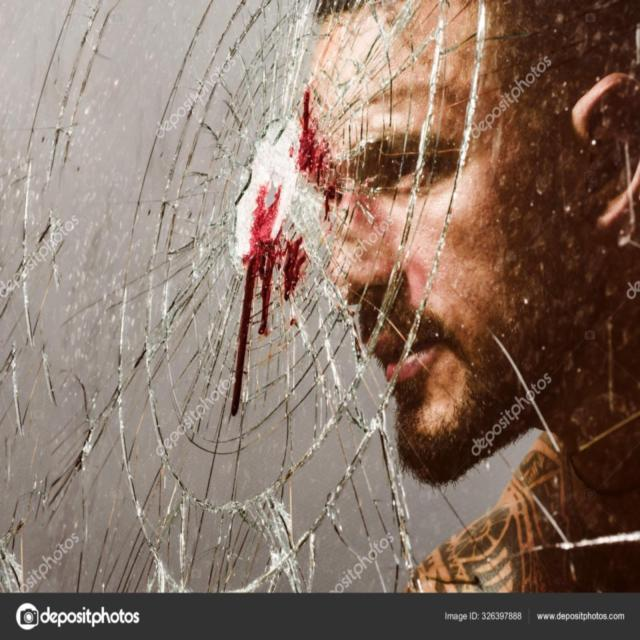flood: (212, 80, 350, 422)
